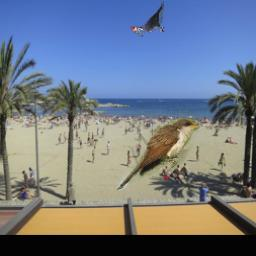Cuckoo: (117, 119, 199, 191)
Woodpecker: (131, 2, 165, 37)
